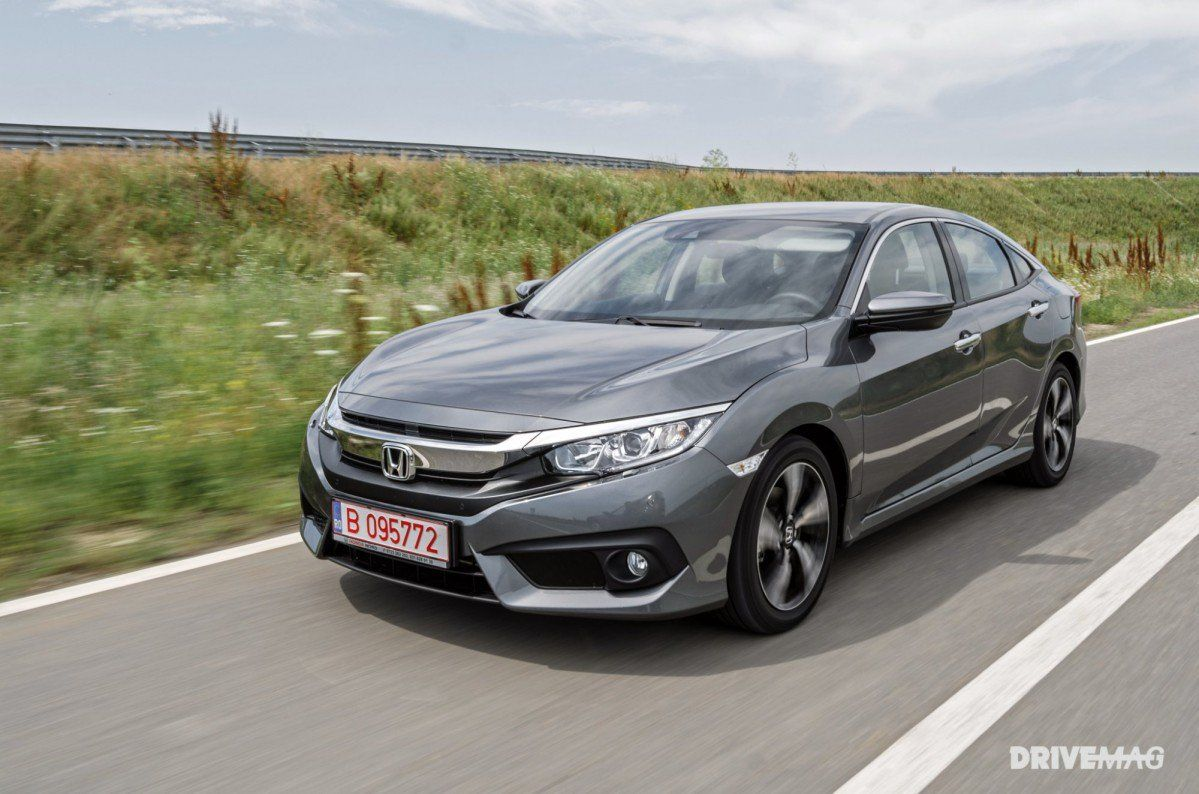car: (294, 202, 1087, 638)
